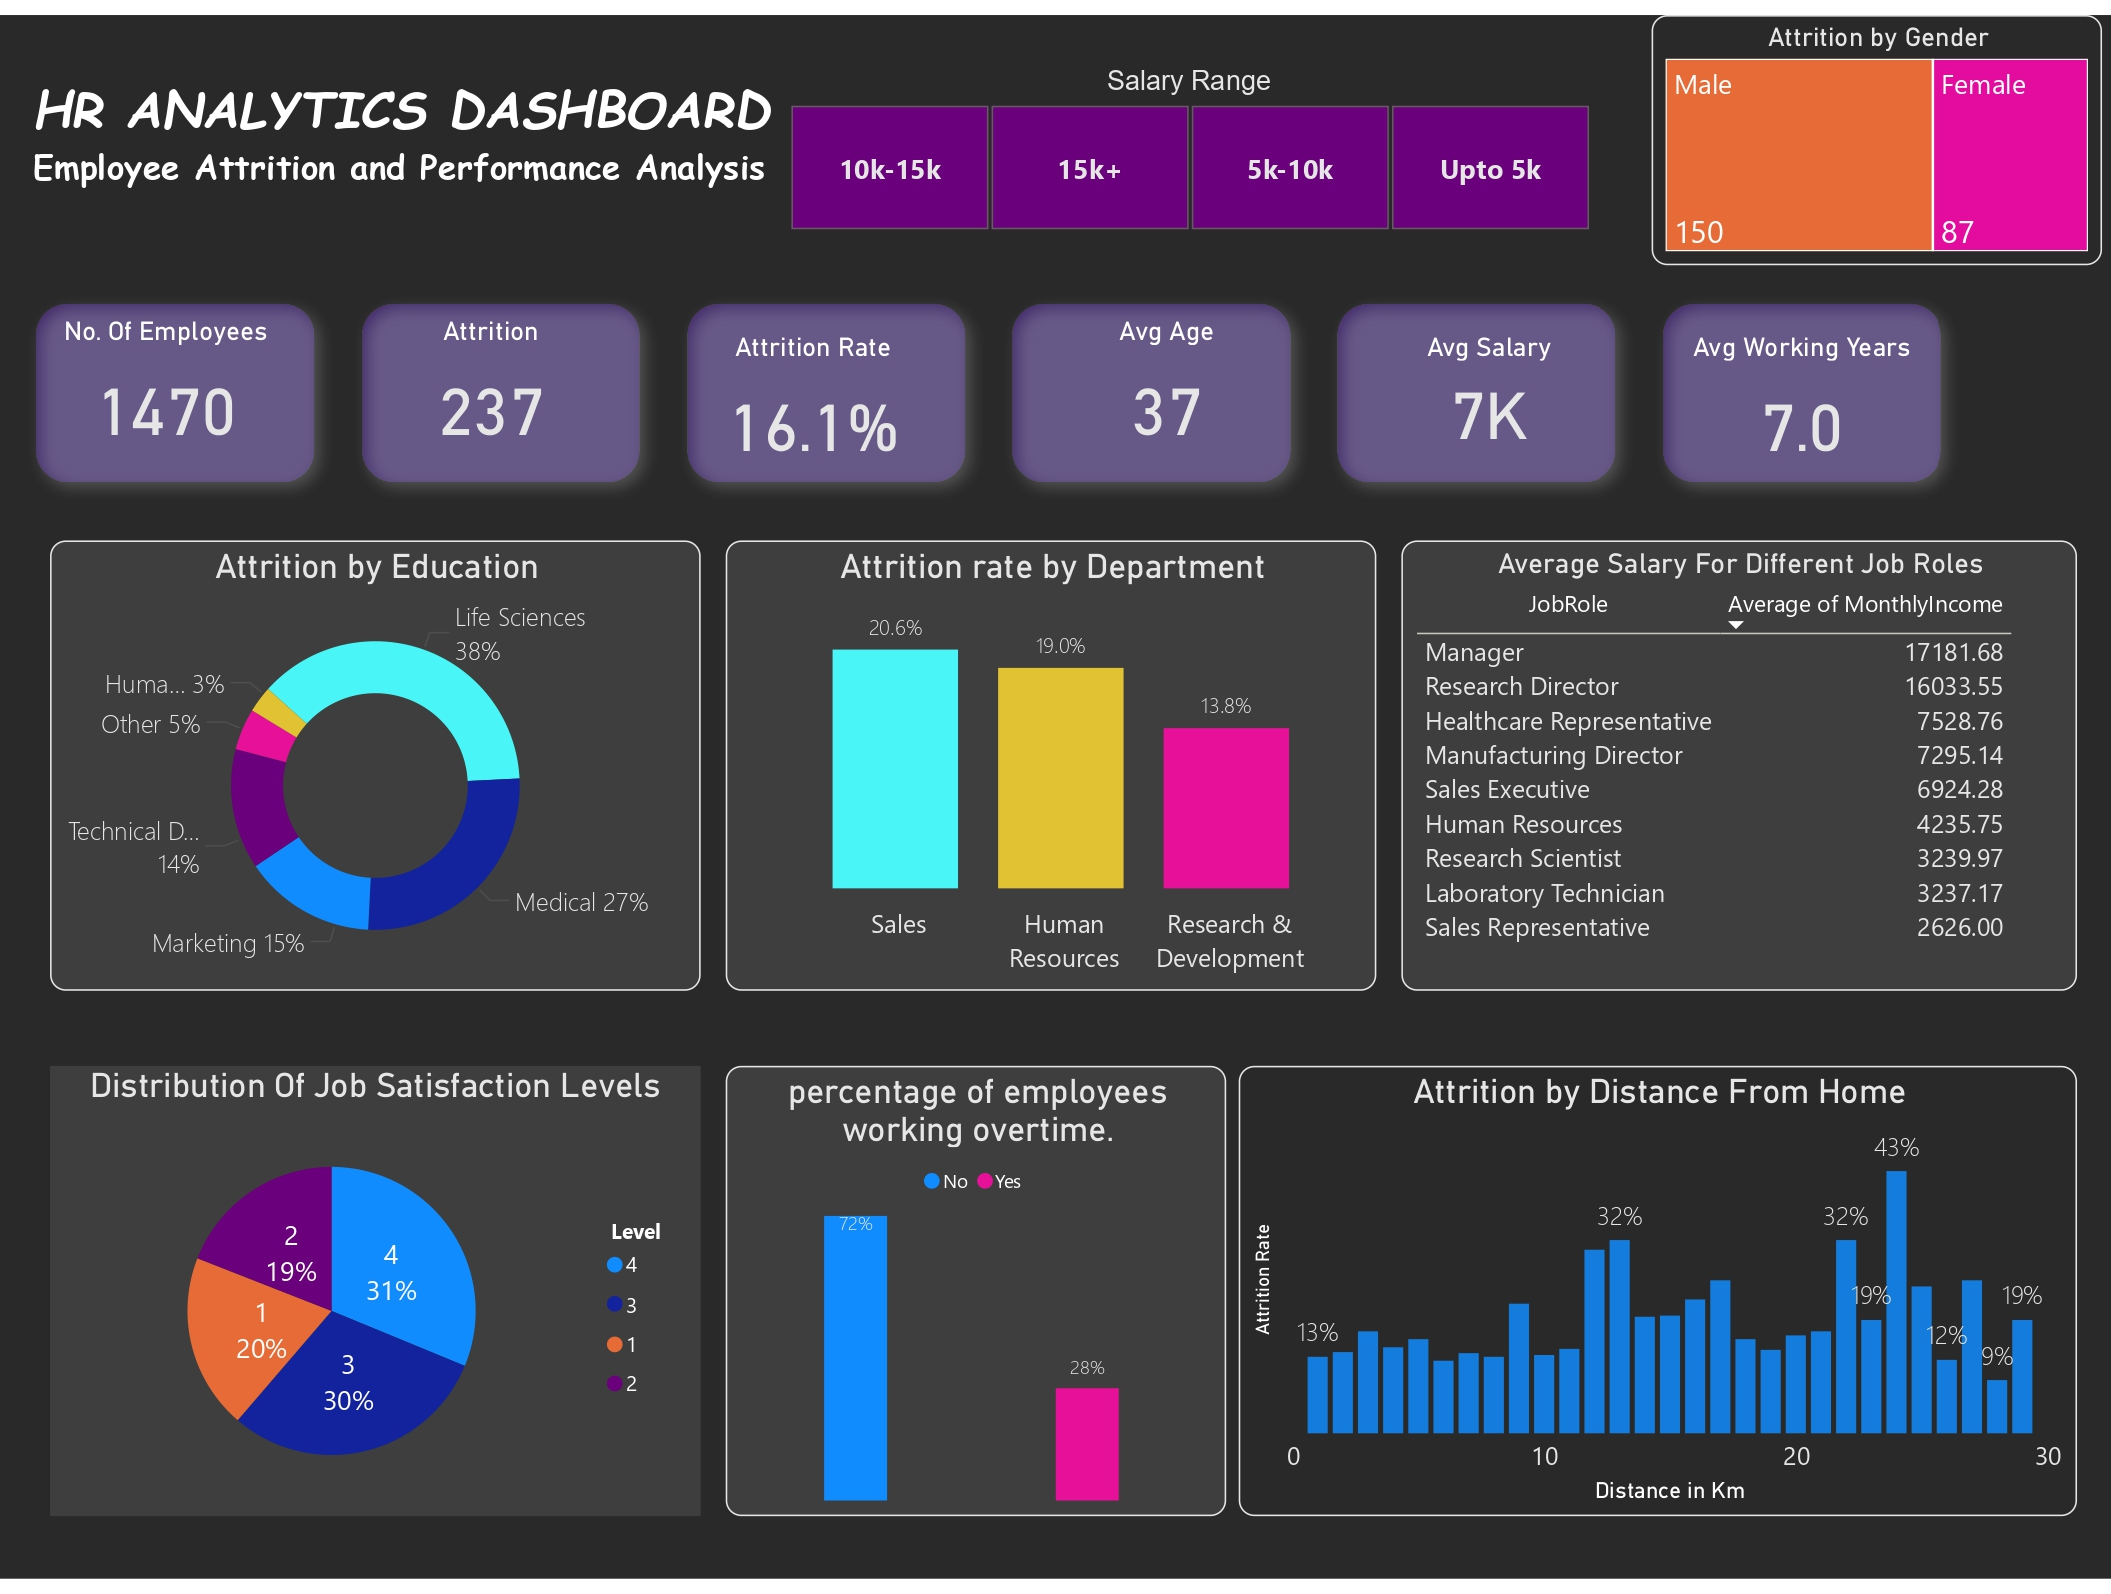

Layout of this report page (visuals, bound fields, positions):
{"tool":"powerbi","page":{"name":"Page 1","canvas":[1350,1000],"ordinal":0},"visuals":[{"type":"donutChart","title":"Attrition by Education","fields":{"Category":["HR_Analytics_dataset.EducationField"],"Y":["Sum(HR_Analytics_dataset.attrition_count)"]},"box":[32,336,416,288],"z":0},{"type":"shape","title":"Count Of Employees","box":[7.1,169.8,208,144],"z":1000},{"type":"card","title":"No. Of Employees","fields":{"Values":["Count(HR_Analytics_dataset.EmpID)"]},"box":[26,192,160,96],"z":2000},{"type":"shape","title":"Count Of Employees","box":[215.1,169.8,208,144],"z":3000},{"type":"shape","title":"Count Of Employees","box":[423.1,169.8,208,144],"z":4000},{"type":"shape","title":"Count Of Employees","box":[631.1,169.8,208,144],"z":5000},{"type":"shape","title":"Count Of Employees","box":[839.1,169.8,208,144],"z":6000},{"type":"shape","title":"Count Of Employees","box":[1047.1,169.8,208,144],"z":7000},{"type":"card","title":"Attrition","fields":{"Values":["Sum(HR_Analytics_dataset.attrition_count)"]},"box":[234,192,160,96],"z":8000},{"type":"card","title":"Attrition Rate","fields":{"Values":["HR_Analytics_dataset.Attrition_rate"]},"box":[439.1,201.8,160,96],"z":9000},{"type":"card","title":"Avg Age","fields":{"Values":["Avg(HR_Analytics_dataset.Age)"]},"box":[666,192,160,96],"z":10000},{"type":"card","title":"Avg Salary","fields":{"Values":["Avg(HR_Analytics_dataset.MonthlyIncome)"]},"box":[871.1,201.8,160,80],"z":11000},{"type":"card","title":"Avg Working Years","fields":{"Values":["Avg(HR_Analytics_dataset.YearsAtCompany)"]},"box":[1063.1,201.8,176,96],"z":12000},{"type":"clusteredColumnChart","title":"Attrition rate by Department","fields":{"Category":["HR_Analytics_dataset.Department"],"Y":["HR_Analytics_dataset.Attrition_rate"]},"box":[464,336,416,288],"z":13000},{"type":"columnChart","title":"Attrition by Distance From Home","fields":{"Category":["HR_Analytics_dataset.DistanceFromHome"],"Y":["HR_Analytics_dataset.Attrition_rate"]},"box":[792,672,536,288],"z":14000},{"type":"tableEx","title":"Average Salary For Different Job Roles","fields":{"Values":["HR_Analytics_dataset.JobRole","Avg(HR_Analytics_dataset.MonthlyIncome)"]},"box":[896,336,432,288],"z":15000},{"type":"treemap","title":"Attrition by Gender","fields":{"Values":["Sum(HR_Analytics_dataset.attrition_count)"],"Group":["HR_Analytics_dataset.Gender"]},"box":[1056,0,288,160],"z":16000},{"type":"slicer","title":"Salary Range","fields":{"Values":["HR_Analytics_dataset.SalarySlab"]},"box":[480,32,560,112],"z":17000},{"type":"clusteredColumnChart","title":" percentage of employees working overtime.","fields":{"Category":["HR_Analytics_dataset.OverTime"],"Series":["HR_Analytics_dataset.OverTime"],"Y":["CountNonNull(HR_Analytics_dataset.EmpID)"]},"box":[464,672,320,288],"z":18000},{"type":"textbox","box":[16,32,496,104],"z":19000},{"type":"pieChart","title":"Distribution Of Job Satisfaction Levels","fields":{"Category":["HR_Analytics_dataset.JobSatisfaction"],"Y":["CountNonNull(HR_Analytics_dataset.EmpID)"]},"box":[31,672,416,288],"z":20000}]}

Visuals, with their boxes in screenshot pixels (x1, y1, x2, y2), scaled from the page's 1350x1000 canvas onto the 2111x1594 screenshot:
"Attrition by Education" donutChart: box=[50, 536, 701, 995]
"Count Of Employees" shape: box=[11, 271, 336, 500]
"No. Of Employees" card: box=[41, 306, 291, 459]
"Count Of Employees" shape: box=[336, 271, 662, 500]
"Count Of Employees" shape: box=[662, 271, 987, 500]
"Count Of Employees" shape: box=[987, 271, 1312, 500]
"Count Of Employees" shape: box=[1312, 271, 1637, 500]
"Count Of Employees" shape: box=[1637, 271, 1963, 500]
"Attrition" card: box=[366, 306, 616, 459]
"Attrition Rate" card: box=[687, 322, 937, 475]
"Avg Age" card: box=[1041, 306, 1292, 459]
"Avg Salary" card: box=[1362, 322, 1612, 449]
"Avg Working Years" card: box=[1662, 322, 1938, 475]
"Attrition rate by Department" clusteredColumnChart: box=[726, 536, 1376, 995]
"Attrition by Distance From Home" columnChart: box=[1238, 1071, 2077, 1530]
"Average Salary For Different Job Roles" tableEx: box=[1401, 536, 2077, 995]
"Attrition by Gender" treemap: box=[1651, 0, 2102, 255]
"Salary Range" slicer: box=[751, 51, 1626, 230]
" percentage of employees working overtime." clusteredColumnChart: box=[726, 1071, 1226, 1530]
textbox: box=[25, 51, 801, 217]
"Distribution Of Job Satisfaction Levels" pieChart: box=[48, 1071, 699, 1530]
